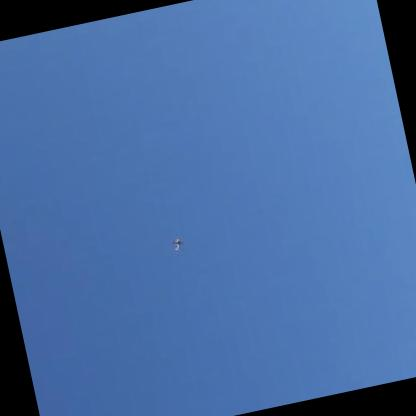plane: (170, 237, 184, 251)
